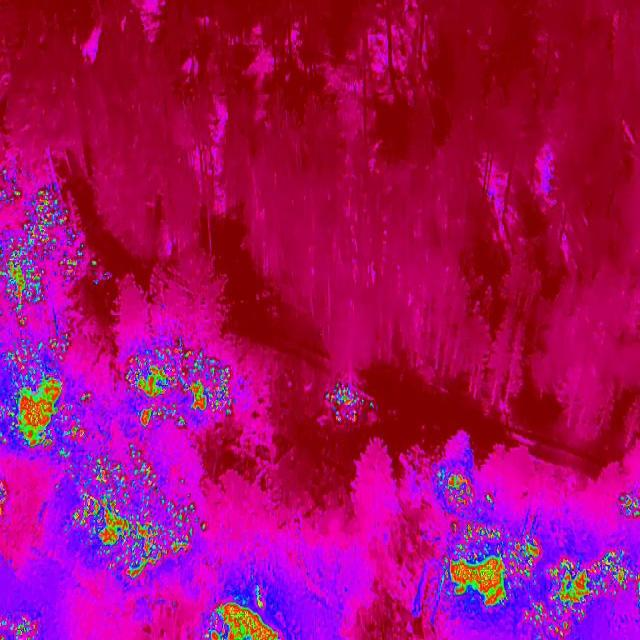fire: (0, 173, 90, 462), (445, 531, 640, 640), (75, 458, 208, 578), (120, 338, 242, 436), (430, 465, 504, 535), (194, 600, 282, 640), (314, 382, 381, 428), (0, 602, 44, 640), (614, 492, 640, 522)
